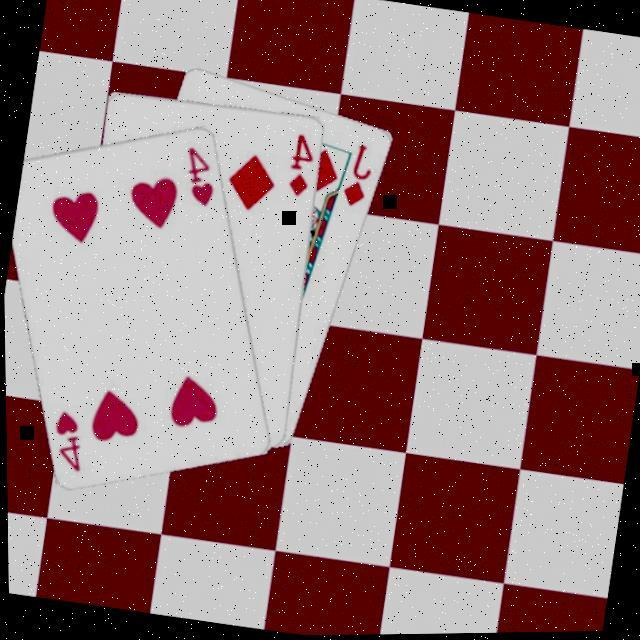4D: (284, 130, 322, 200)
4H: (177, 141, 226, 211), (46, 404, 94, 474)
JD: (339, 140, 381, 212)
